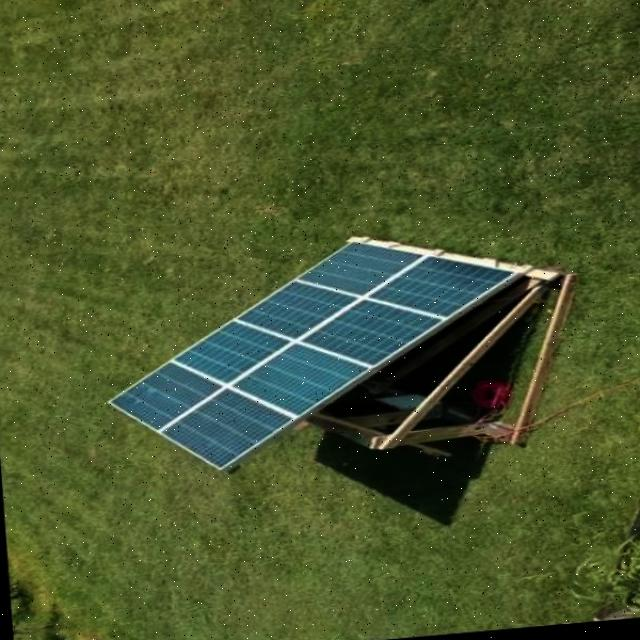Normal Solar Panel: (101, 222, 539, 481)
